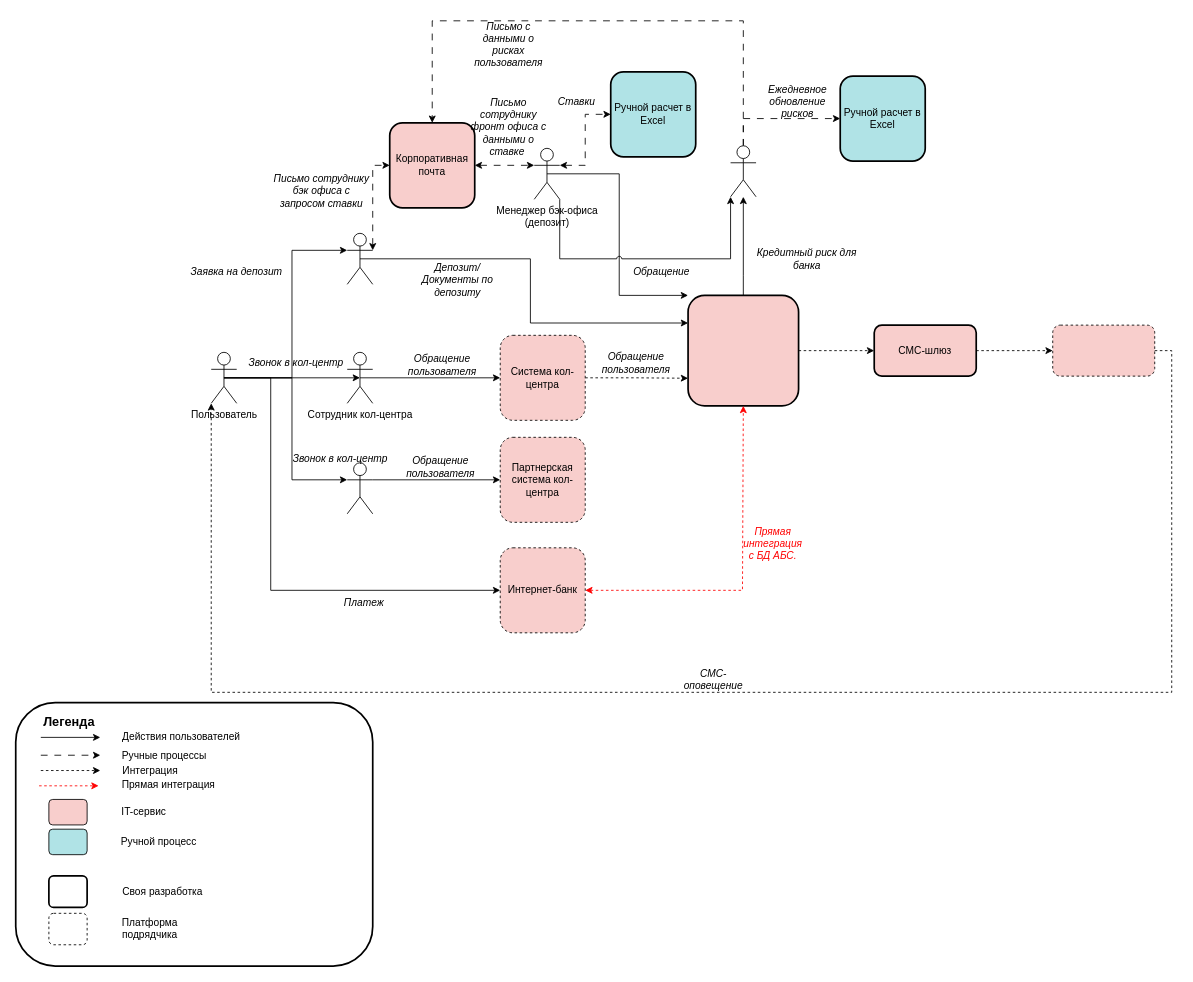
Some shapes in this 1193 by 982 pixel diagram are drawn without their labels. The centre of each missing label's shape, as x and y in pixels:
"АБС" belongs at (x=743, y=350).
"Менеджер бэк-офиса (кредит)" belongs at (x=743, y=171).
"Сотрудник партнерского кол-центра" belongs at (x=359, y=488).
"Сотрудник фронт-офиса" belongs at (x=359, y=258).
"Телеком-провайдер" belongs at (x=1103, y=350).
